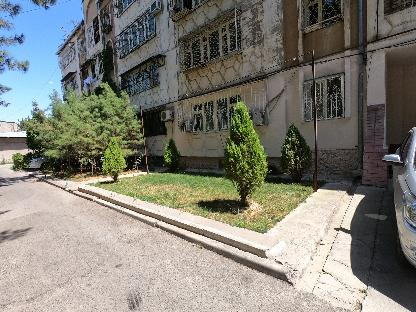tree: (25, 82, 147, 177), (219, 97, 275, 214), (96, 133, 129, 183)
